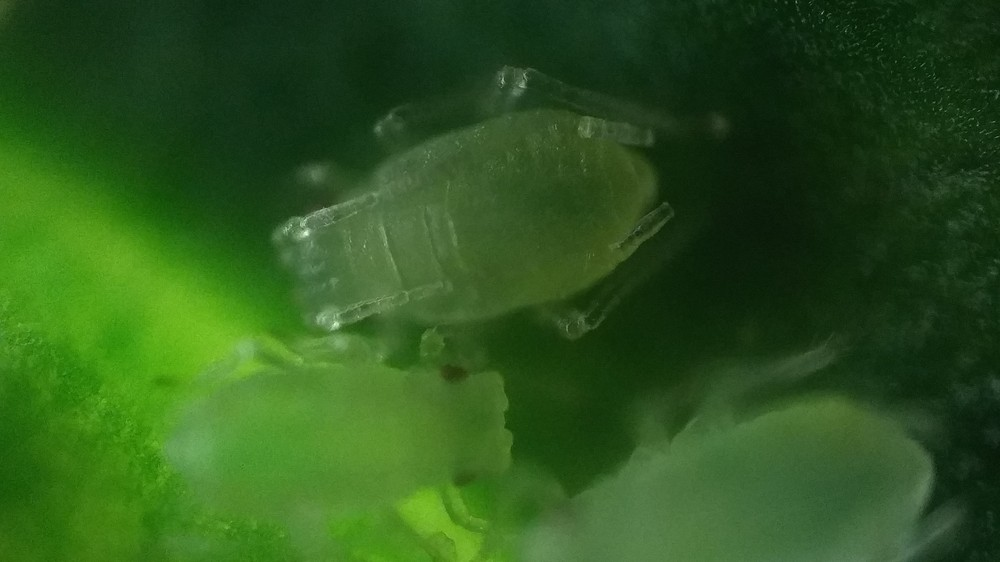Pulgon: (238, 53, 762, 354), (506, 337, 968, 562), (146, 331, 550, 551)
